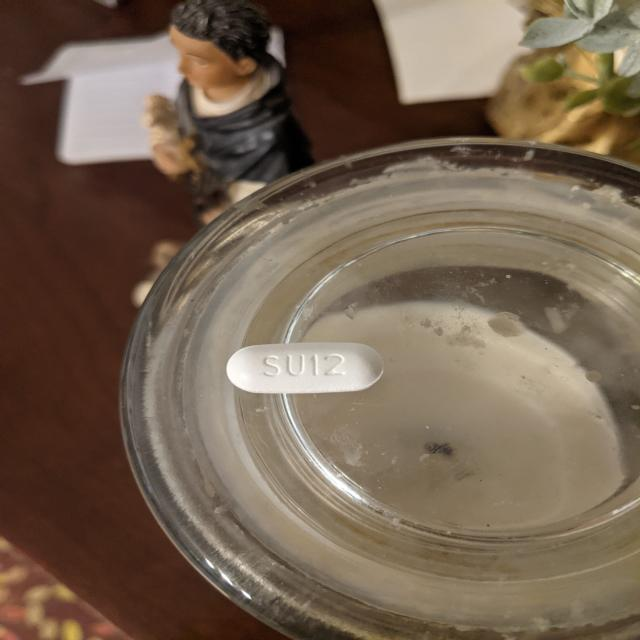non-organic waste: (225, 341, 385, 395)
